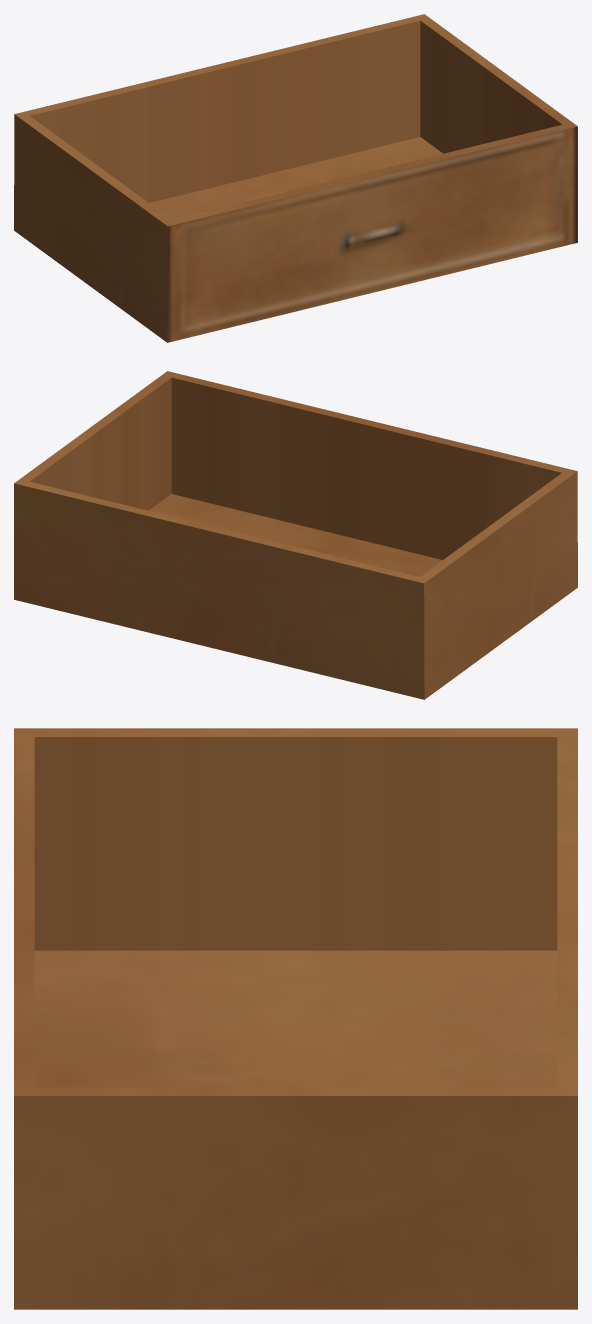
The model's file is Chest_drawers_01_006-col.glb.
3 views of the same model, one above another, from view 1: azimuth 30°, elevation 25°; view 2: azimuth 150°, elevation 25°; view 3: azimuth 270°, elevation 25° (orthographic). The views are drawn at different scales.
Visible parts, largest first — view 1: Chest_drawers_01.006-col; view 2: Chest_drawers_01.006-col; view 3: Chest_drawers_01.006-col.
Boxes of the visible parts, x1,y1,x2,y2 form: Chest_drawers_01.006-col: [14, 14, 577, 342]; Chest_drawers_01.006-col: [14, 371, 577, 699]; Chest_drawers_01.006-col: [14, 728, 577, 1309].
Bounding box in the file's own units: 0.8463 × 0.2371 × 0.5479.
Materials: 1 (1 with a texture image).
